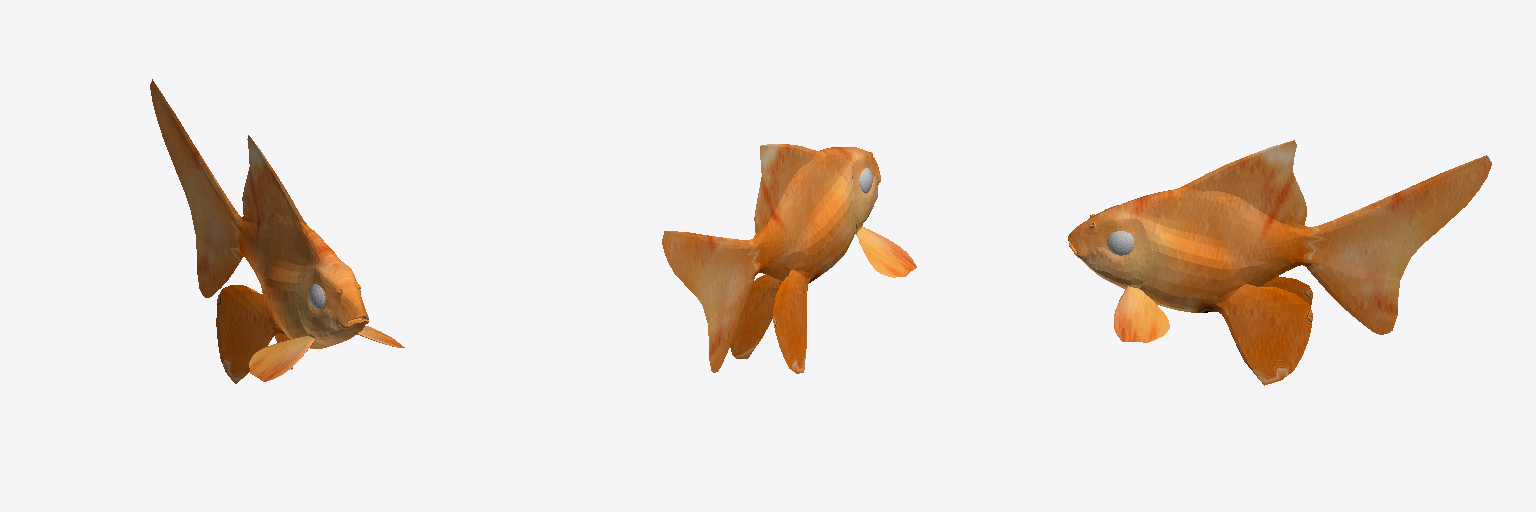
The picture shows the model from 3 angles: view 1: azimuth 30°, elevation 25°; view 2: azimuth 150°, elevation 25°; view 3: azimuth 270°, elevation 25°; orthographic projection.
Visible parts, largest first — view 1: gf_body; view 2: gf_body; view 3: gf_body.
Boxes of the visible parts, <box> form: gf_body: <box>150,79,404,383</box>; gf_body: <box>662,144,916,373</box>; gf_body: <box>1068,140,1491,385</box>.
Size of the model in its own units: 0.0269 by 0.0415 by 0.0689.
Materials: 1 (1 with a texture image).